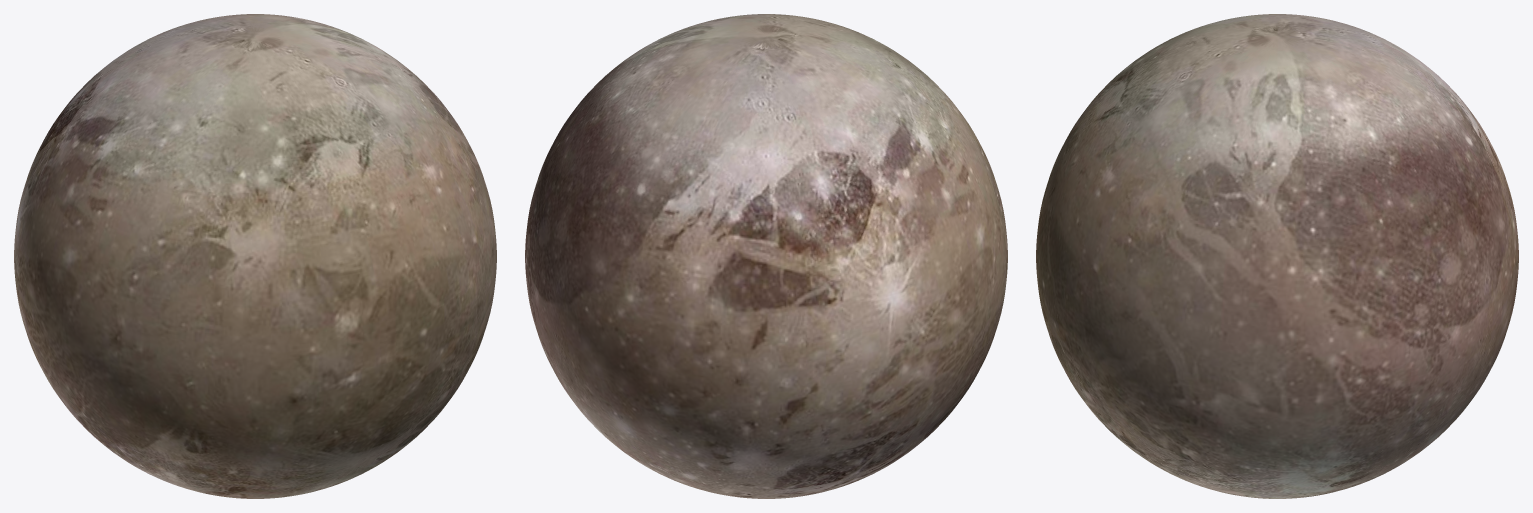
File: ganymade_1k.glb
3 views of the same model, side by side, from view 1: azimuth 30°, elevation 25°; view 2: azimuth 150°, elevation 25°; view 3: azimuth 270°, elevation 25° (orthographic).
Parts seen in each view (by area): view 1: Sphere_0; view 2: Sphere_0; view 3: Sphere_0.
Part boxes in pixels (bbox=[...]): Sphere_0: bbox=[14, 14, 496, 498]; Sphere_0: bbox=[525, 14, 1007, 498]; Sphere_0: bbox=[1036, 14, 1518, 498].
Bounding box in the file's own units: 1.99 × 2 × 1.99.
Materials: 1 (1 with a texture image).
